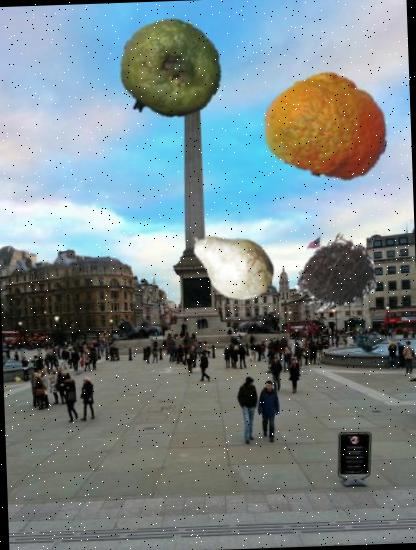Limes: (117, 16, 224, 123)
Mandarine: (263, 60, 392, 190)
Pear: (184, 215, 280, 312)
Rambutan: (292, 231, 378, 317)
